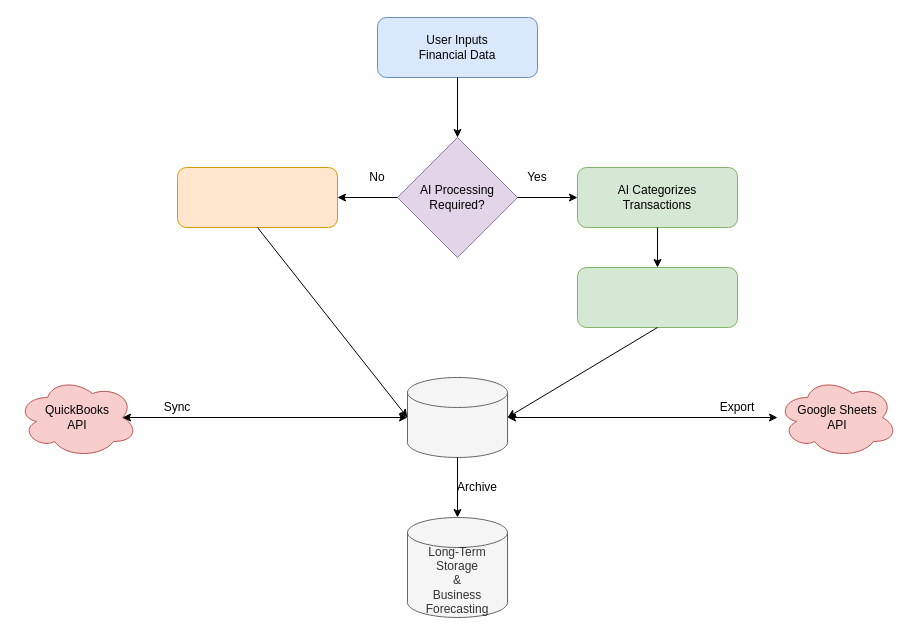
Some shapes in this 915 by 635 pixel diagram are drawn without their labels. The centre of each missing label's shape, as x and y in pixels:
AI Generates Reports: the point at 657,297
Financial Database (Short-Term Storage): the point at 457,417
User Manually Categorizes Data: the point at 257,197
